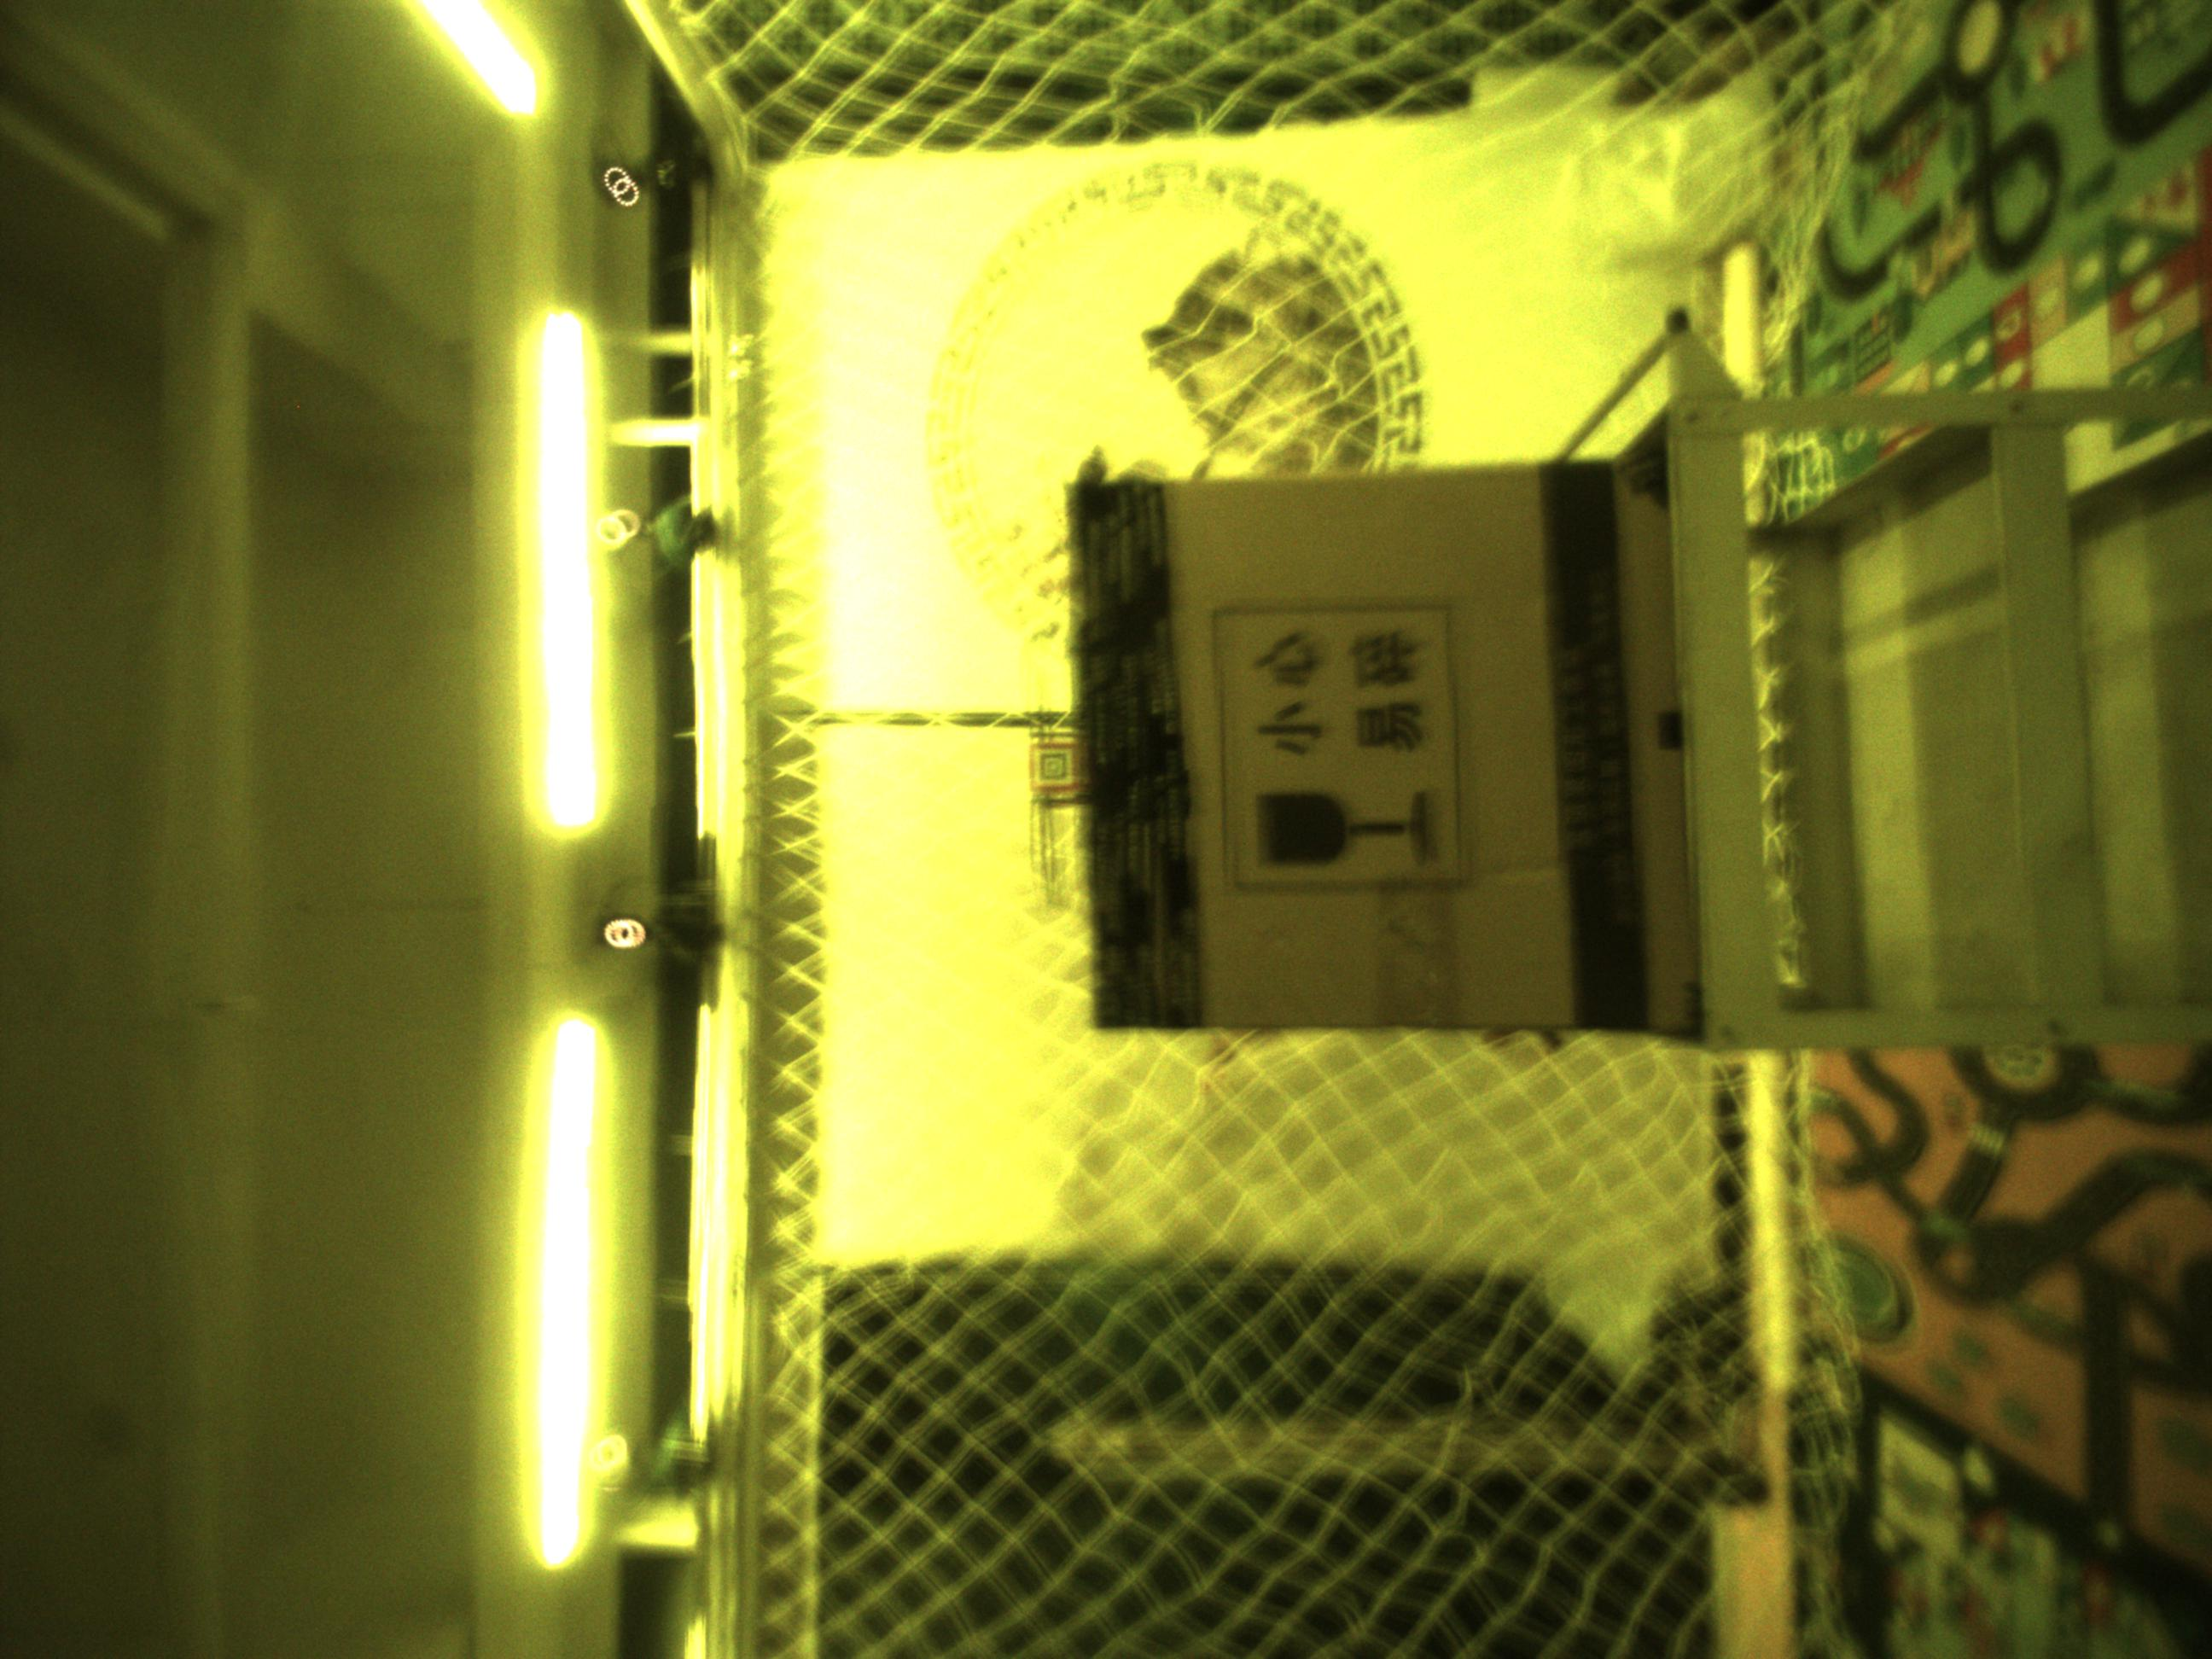outline: (1028, 744, 1080, 791)
